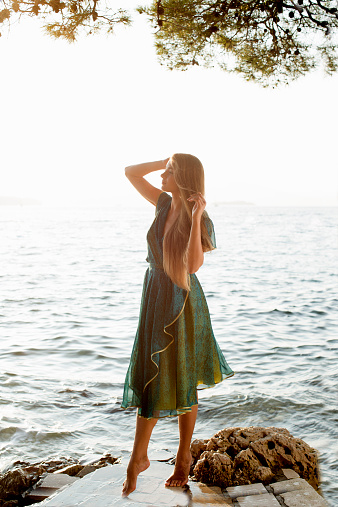em pe: (117, 136, 222, 498)
